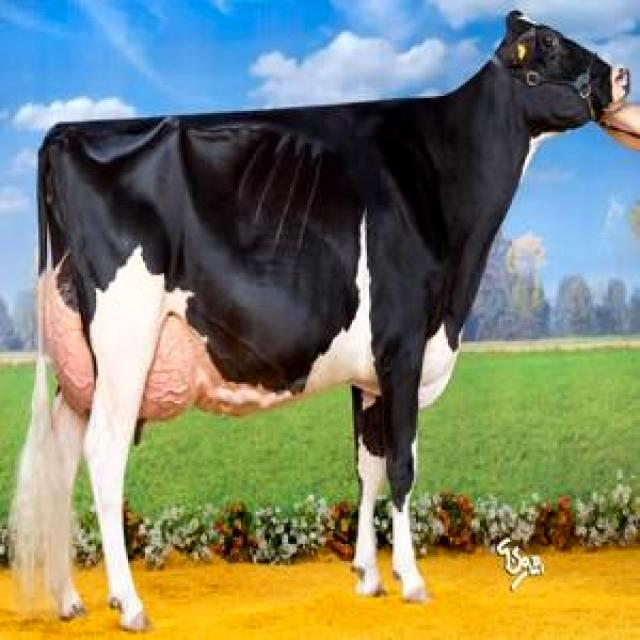COW: (14, 12, 632, 630)
